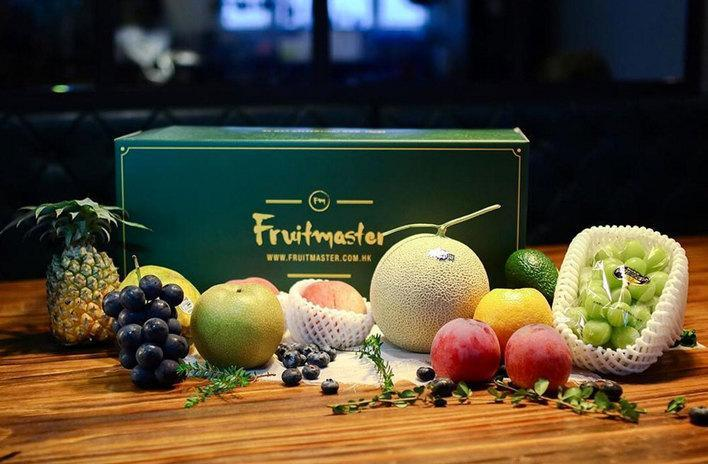apple: (190, 279, 289, 368), (287, 277, 372, 353), (429, 318, 502, 387), (506, 324, 575, 395)
